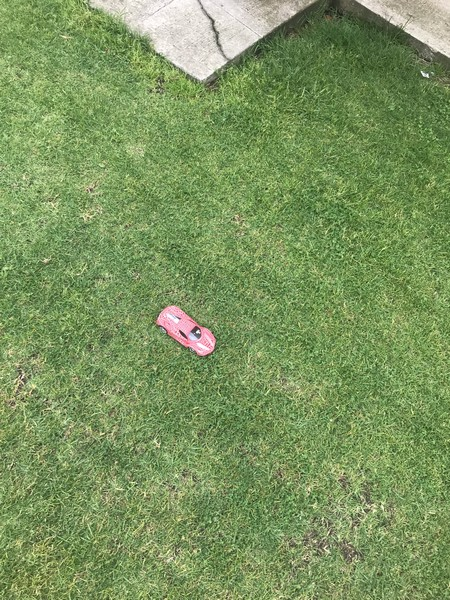RC: (155, 304, 218, 358)
